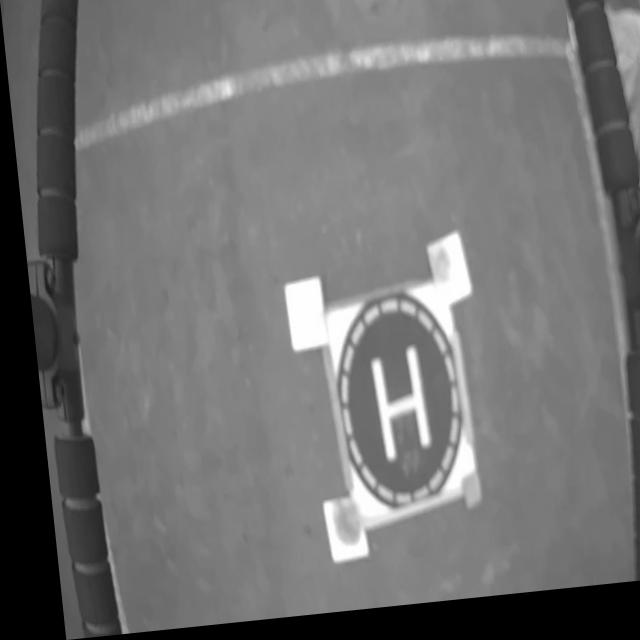Helipad: (361, 351, 420, 473)
